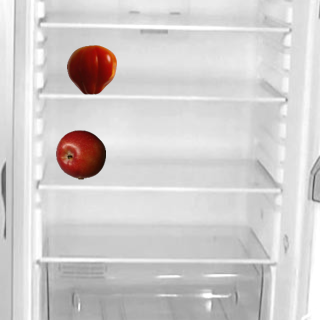Apple Braeburn: (55, 129, 105, 179)
Tomato 1: (66, 44, 116, 94)
